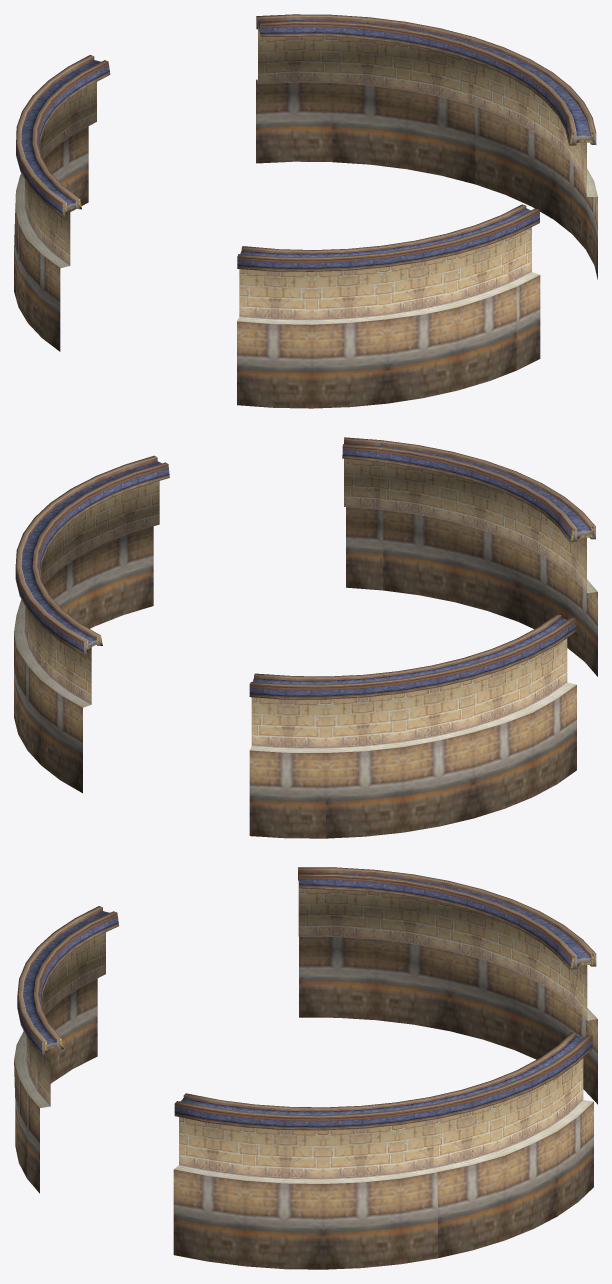
The model's file is S_Build_City090_A1.FBX.
3 views of the same model, one above another, from view 1: azimuth 30°, elevation 25°; view 2: azimuth 150°, elevation 25°; view 3: azimuth 270°, elevation 25° (orthographic). The views are drawn at different scales.
Visible parts, largest first — view 1: S_Build_City090_A1; view 2: S_Build_City090_A1; view 3: S_Build_City090_A1.
Boxes of the visible parts, x1,y1,x2,y2 form: S_Build_City090_A1: (14,14,597,408); S_Build_City090_A1: (14,437,597,838); S_Build_City090_A1: (14,867,597,1269).
Size of the model in its own units: 9498 by 2663 by 9297.
